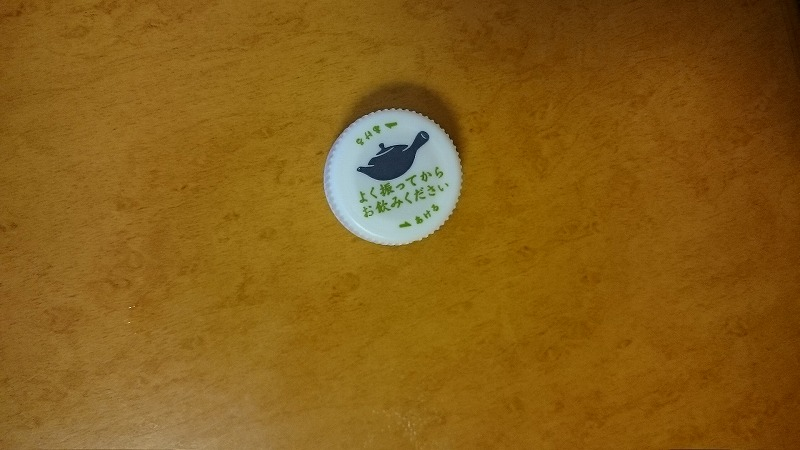A: (315, 98, 473, 256)
